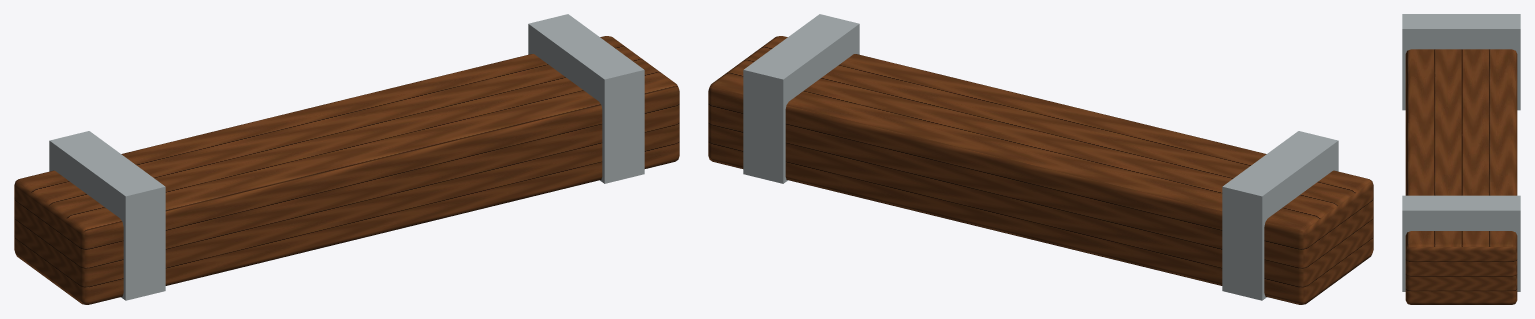
Rendered from modular-survival-base-builder-door-lintel-87480b57__24257.glb.
3 views of the same model, side by side, from view 1: azimuth 30°, elevation 25°; view 2: azimuth 150°, elevation 25°; view 3: azimuth 270°, elevation 25° (orthographic). The views are drawn at different scales.
Visible parts, largest first — view 1: door-lintel; view 2: door-lintel; view 3: door-lintel.
Part boxes in pixels (<box>): door-lintel: <box>14,14,679,304</box>; door-lintel: <box>708,14,1373,304</box>; door-lintel: <box>1402,14,1520,304</box>.
Size of the model in its own units: 1.2 by 0.2 by 0.265.
2 materials, 1 textured.
